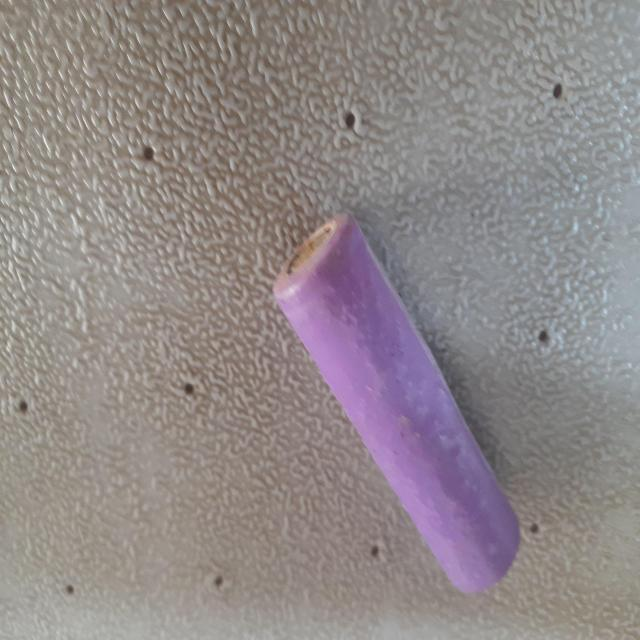AA: (272, 211, 518, 606)
